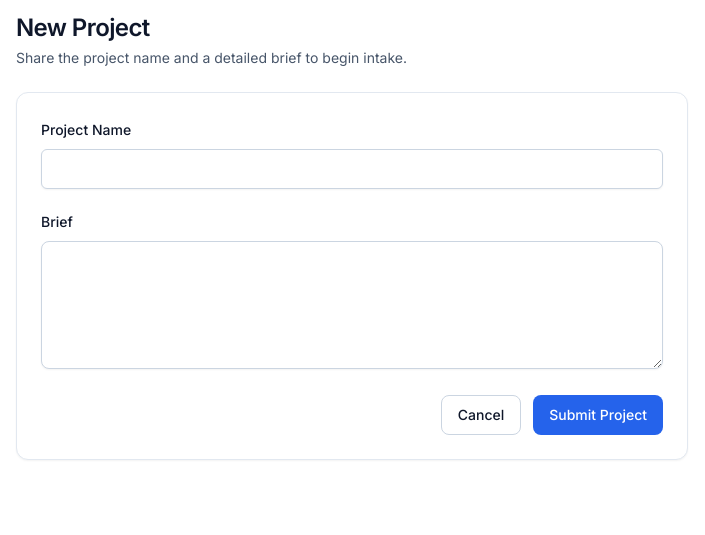
Test: NewProjectPage › shows an error message when the API returns an error
Type "New Website" into the field labelled "Project Name". click: [352, 169]
box: [41,149,663,189]
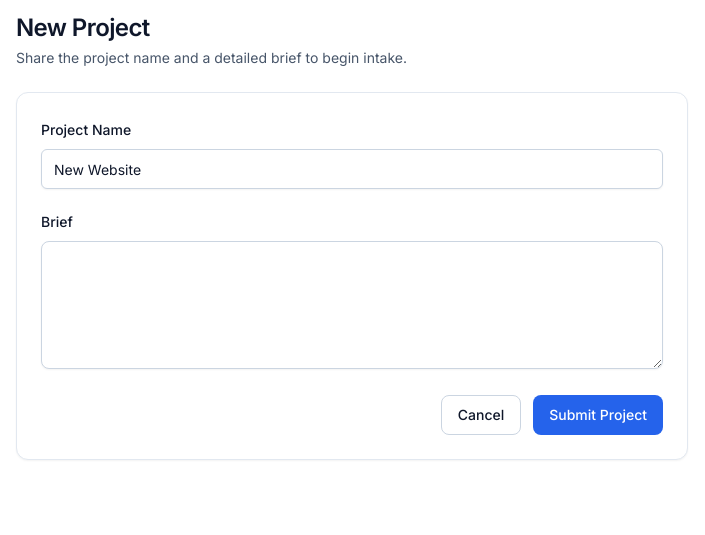
Type "short" into the text box labelled "Brief". click: [352, 305]
box: [41,241,663,369]
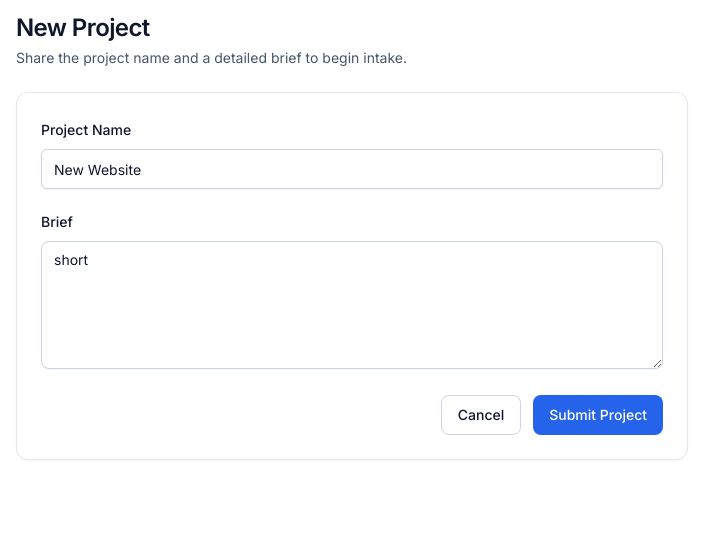
Click the button "Submit Project". click: [598, 415]
box: [533,395,663,435]
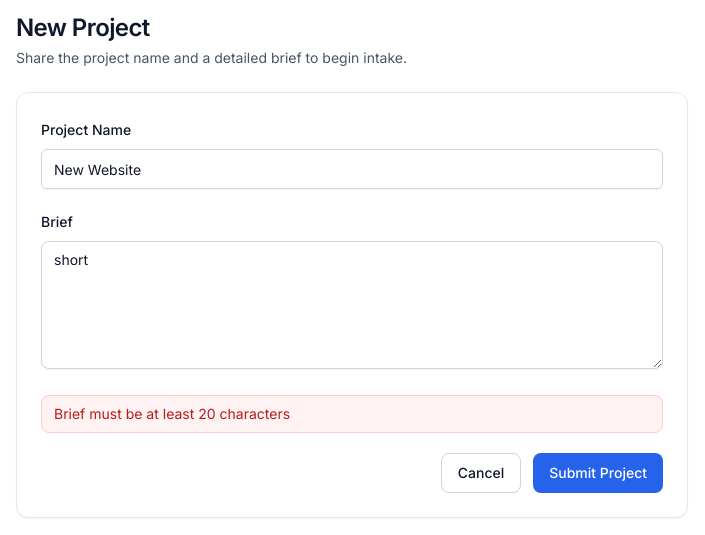
Now the text "Brief must be at least 20 characters" is shown, box [41,395,663,433]
